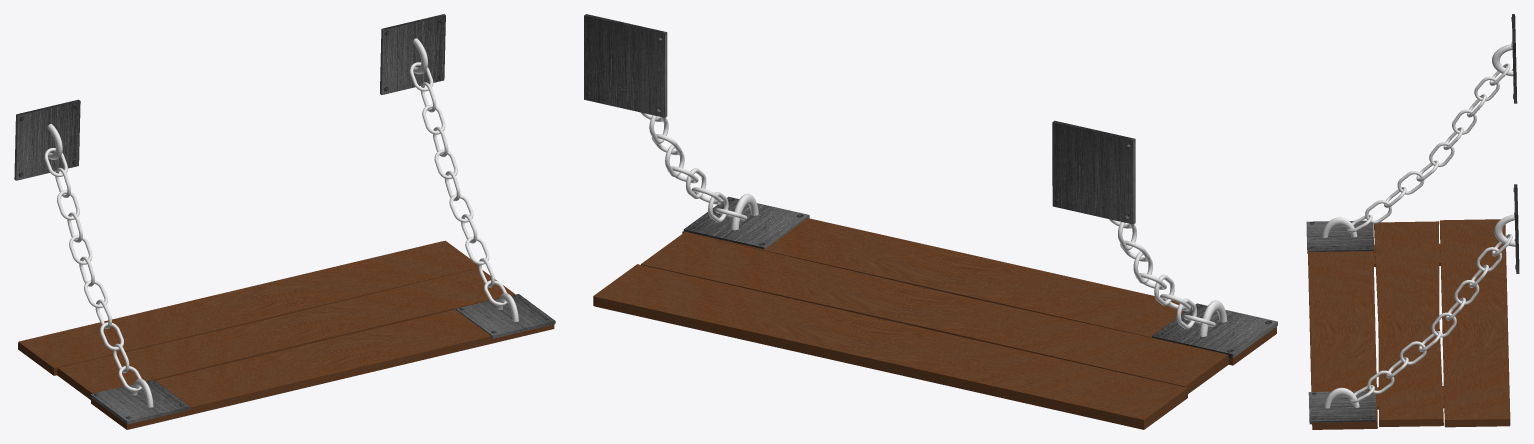
File: seat.fbx
3 views of the same model, side by side, from view 1: azimuth 30°, elevation 25°; view 2: azimuth 150°, elevation 25°; view 3: azimuth 270°, elevation 25° (orthographic). The views are drawn at different scales.
Parts seen in each view (by area): view 1: Cube.002, Cube.001, Cube, Cube.008, Cube.007, Cube.003, Cube.006; view 2: Cube.002, Cube.001, Cube, Cube.008, Cube.007, Cube.003, Cube.006; view 3: Cube.002, Cube.001, Cube, Cube.006, Cube.003, Cube.008, Cube.007, Circle.012, Circle.024, Circle.025, Circle.015, Circle.002 (+9 smaller).
Part boxes in pixels (x1=…): Cube.002: x1=18, y1=240, x2=478, y2=375; Cube.001: x1=57, y1=268, x2=515, y2=399; Cube: x1=91, y1=309, x2=554, y2=429; Cube.008: x1=14, y1=99, x2=80, y2=180; Cube.007: x1=380, y1=14, x2=445, y2=94; Cube.003: x1=90, y1=379, x2=189, y2=424; Cube.006: x1=456, y1=294, x2=555, y2=338; Cube.002: x1=593, y1=264, x2=1187, y2=429; Cube.001: x1=641, y1=232, x2=1228, y2=393; Cube: x1=682, y1=218, x2=1276, y2=365; Cube.008: x1=1052, y1=120, x2=1135, y2=224; Cube.007: x1=584, y1=14, x2=667, y2=117; Cube.003: x1=1152, y1=303, x2=1277, y2=358; Cube.006: x1=683, y1=196, x2=809, y2=249; Cube.002: x1=1439, y1=219, x2=1510, y2=427; Cube.001: x1=1374, y1=221, x2=1443, y2=426; Cube: x1=1308, y1=251, x2=1377, y2=429; Cube.006: x1=1308, y1=391, x2=1376, y2=424; Cube.003: x1=1306, y1=220, x2=1374, y2=253; Cube.008: x1=1512, y1=14, x2=1517, y2=103; Cube.007: x1=1514, y1=184, x2=1519, y2=273; Circle.012: x1=1322, y1=217, x2=1357, y2=237; Circle.024: x1=1324, y1=387, x2=1359, y2=408; Circle.025: x1=1494, y1=214, x2=1518, y2=246; Circle.015: x1=1492, y1=44, x2=1513, y2=76; Circle.002: x1=1365, y1=200, x2=1391, y2=223.
Bounding box in the file's own units: 987 × 525 × 453.
